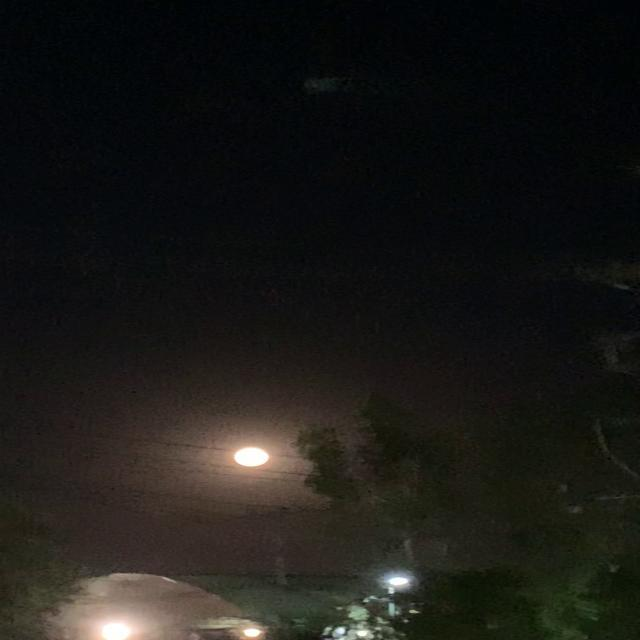moon: (240, 446, 282, 470)
